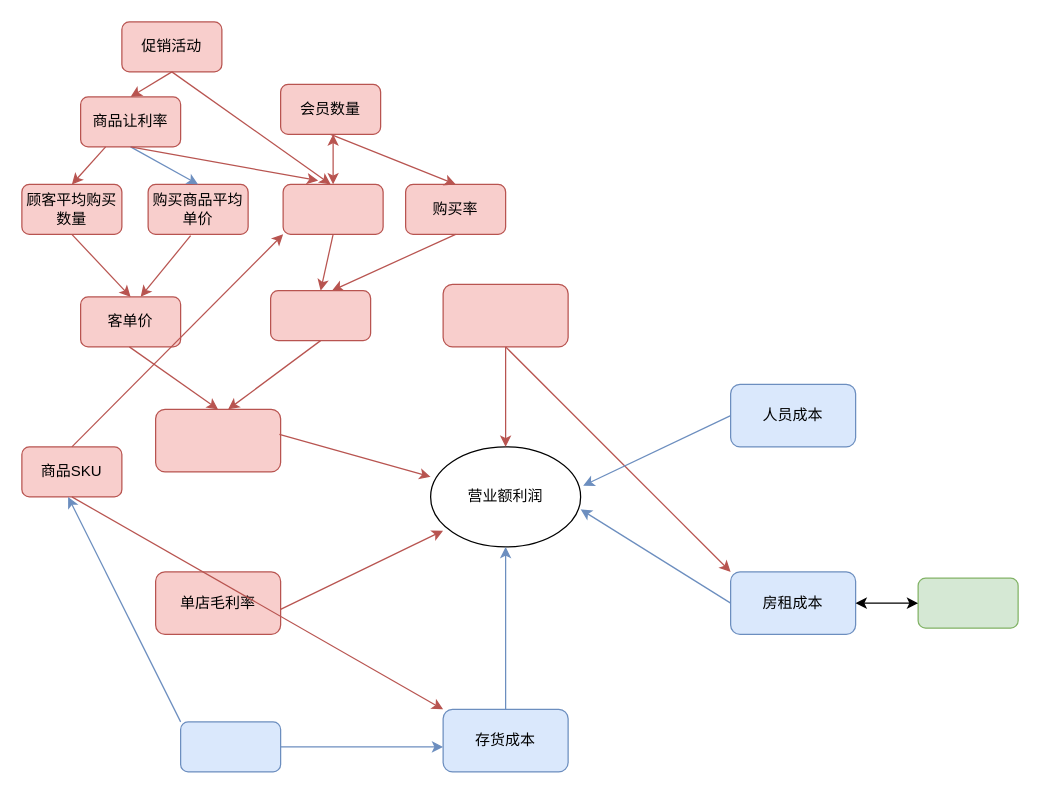
Some shapes in this 1040 by 794 pixel diagram are drawn without their labels. The centre of each missing label's shape, as x and y in pixels:
"单店营业销售额" goes at pixel 217 440.
"客流量" goes at pixel 332 208.
"库存周转天数" goes at pixel 230 746.
"门店数量" goes at pixel 505 315.
"门店类型" goes at pixel 967 602.
"顾客数量" goes at pixel 320 315.
